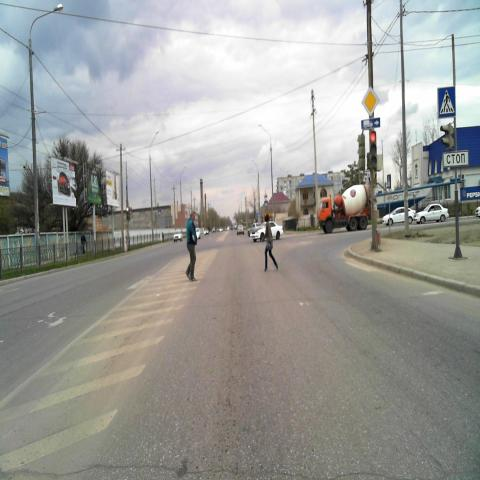2_1: (361, 86, 378, 116)
5_19_1: (438, 86, 456, 118)
6_15_2: (361, 117, 382, 131)
6_16: (444, 148, 468, 166)
